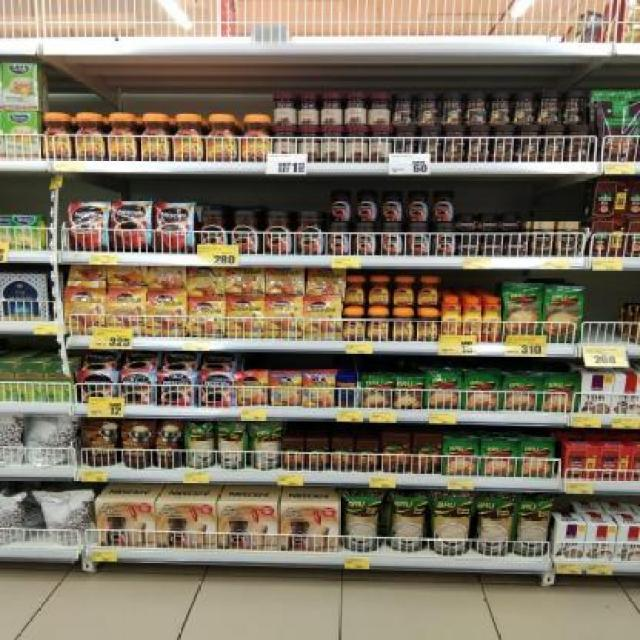Coffee: (64, 287, 106, 336), (69, 201, 109, 252), (156, 202, 195, 253), (114, 201, 151, 252), (148, 289, 187, 337), (108, 287, 146, 336), (205, 113, 238, 161), (228, 296, 264, 339), (305, 296, 341, 339), (189, 297, 226, 337), (137, 114, 169, 160), (268, 296, 301, 340), (173, 114, 203, 162), (243, 115, 272, 163), (74, 113, 104, 159), (158, 371, 194, 407), (43, 113, 71, 159), (107, 114, 135, 160), (80, 370, 114, 406), (201, 210, 228, 254), (231, 211, 258, 254), (199, 372, 233, 406), (299, 210, 325, 254), (265, 211, 291, 255), (120, 372, 154, 404), (271, 372, 301, 406), (237, 372, 267, 404), (305, 373, 333, 407), (484, 297, 502, 344), (442, 297, 460, 344), (463, 297, 480, 343), (433, 222, 456, 255), (381, 222, 403, 256), (330, 189, 353, 221), (354, 223, 376, 256), (406, 223, 428, 256), (327, 222, 349, 254), (392, 275, 414, 307), (368, 309, 390, 341), (534, 221, 553, 257), (356, 190, 378, 221), (382, 190, 404, 221), (408, 191, 430, 222), (559, 222, 579, 256), (417, 308, 438, 340), (344, 308, 364, 340), (434, 191, 455, 221), (418, 276, 439, 306), (394, 308, 413, 340), (347, 277, 366, 306), (370, 276, 388, 306), (506, 236, 528, 257), (459, 233, 479, 255), (483, 235, 500, 256), (480, 214, 498, 233), (503, 214, 521, 232), (458, 213, 476, 230)
